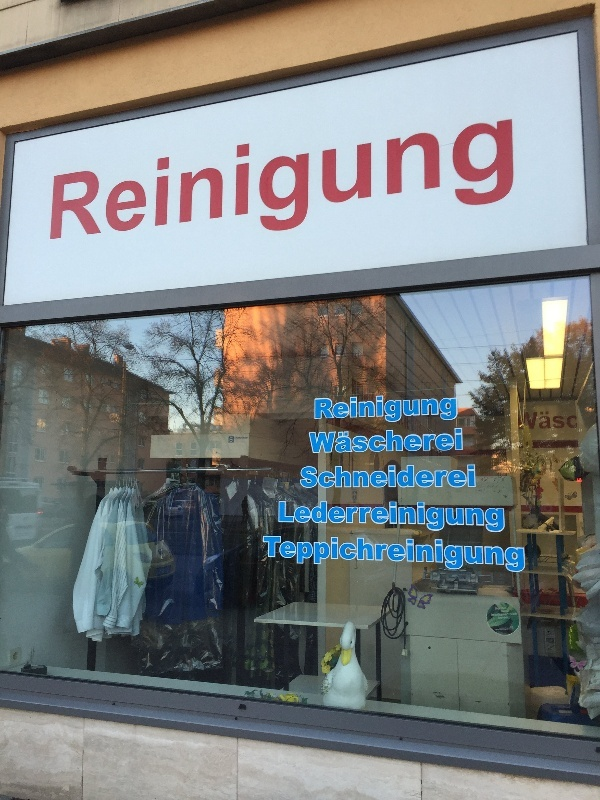text: (65, 102, 80, 285), (81, 102, 96, 285), (97, 102, 112, 285), (113, 102, 128, 285), (129, 102, 144, 285), (145, 102, 160, 285), (161, 102, 176, 285), (177, 102, 192, 285), (193, 102, 208, 285), (209, 102, 224, 285), (225, 102, 240, 285), (241, 102, 256, 285), (257, 102, 272, 285), (273, 102, 288, 285), (289, 102, 304, 285), (305, 102, 320, 285), (321, 102, 336, 285), (337, 102, 352, 285), (353, 102, 368, 285), (369, 102, 384, 285), (385, 102, 400, 285), (401, 102, 416, 285), (417, 102, 432, 285), (433, 102, 448, 285), (449, 102, 464, 285), (465, 102, 480, 285), (481, 102, 496, 285), (497, 102, 512, 285), (53, 102, 64, 285), (273, 535, 288, 577), (289, 535, 304, 577), (305, 535, 320, 577), (321, 535, 336, 577), (337, 535, 352, 577), (353, 535, 368, 577), (369, 535, 384, 577), (385, 535, 400, 577), (401, 535, 416, 577), (417, 535, 432, 577), (433, 535, 448, 577), (449, 535, 464, 577), (465, 535, 480, 577), (481, 535, 496, 577), (497, 535, 512, 577), (513, 535, 526, 577), (289, 500, 304, 535), (305, 500, 320, 535), (321, 500, 336, 535), (337, 500, 352, 535), (353, 500, 368, 535), (369, 500, 384, 535), (385, 500, 400, 535), (401, 500, 416, 535), (417, 500, 432, 535), (433, 500, 448, 535), (449, 500, 464, 535), (465, 500, 480, 535), (481, 500, 496, 535), (321, 393, 336, 428), (337, 393, 352, 428), (353, 393, 368, 428), (369, 393, 384, 428), (385, 393, 400, 428), (401, 393, 416, 428), (417, 393, 432, 428), (433, 393, 448, 428), (305, 462, 320, 490), (321, 462, 336, 490), (337, 462, 352, 490), (353, 462, 368, 490), (369, 462, 384, 490), (385, 462, 400, 490), (401, 462, 416, 490), (417, 462, 432, 490), (433, 462, 448, 490), (449, 462, 464, 490), (321, 428, 336, 455), (337, 428, 352, 455), (353, 428, 368, 455), (369, 428, 384, 455), (385, 428, 400, 455), (401, 428, 416, 455), (417, 428, 432, 455), (433, 428, 448, 455), (449, 428, 464, 455), (263, 535, 272, 577), (513, 102, 515, 285), (278, 500, 288, 535), (465, 462, 477, 490), (308, 428, 320, 455), (497, 500, 506, 535), (449, 393, 458, 428), (529, 411, 544, 430), (545, 411, 560, 430), (561, 411, 576, 430), (518, 411, 528, 430), (315, 393, 320, 428), (497, 613, 512, 617), (302, 462, 304, 490), (498, 617, 512, 620), (497, 607, 507, 611), (577, 411, 579, 430), (501, 610, 512, 613), (561, 710, 572, 713), (241, 436, 248, 439), (513, 613, 518, 617), (230, 438, 240, 440), (492, 613, 496, 617), (235, 436, 240, 439), (497, 629, 509, 630), (559, 710, 560, 713)
